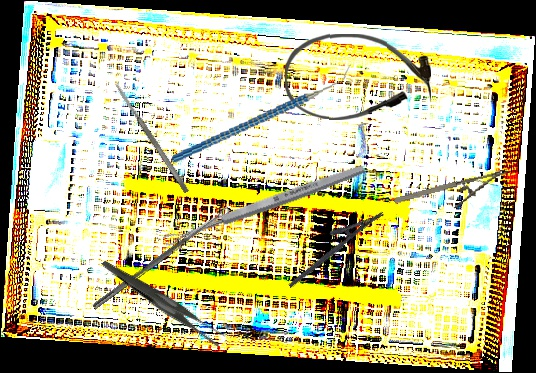Cannula: (284, 32, 432, 122)
Chopper: (164, 63, 360, 164)
Dressing Forceps: (101, 230, 228, 372)
Needle Holder: (278, 198, 385, 289), (392, 168, 515, 222)
Spatula Surgical: (114, 82, 190, 195)
Surgical Spoon: (161, 162, 367, 248), (91, 206, 232, 311)
